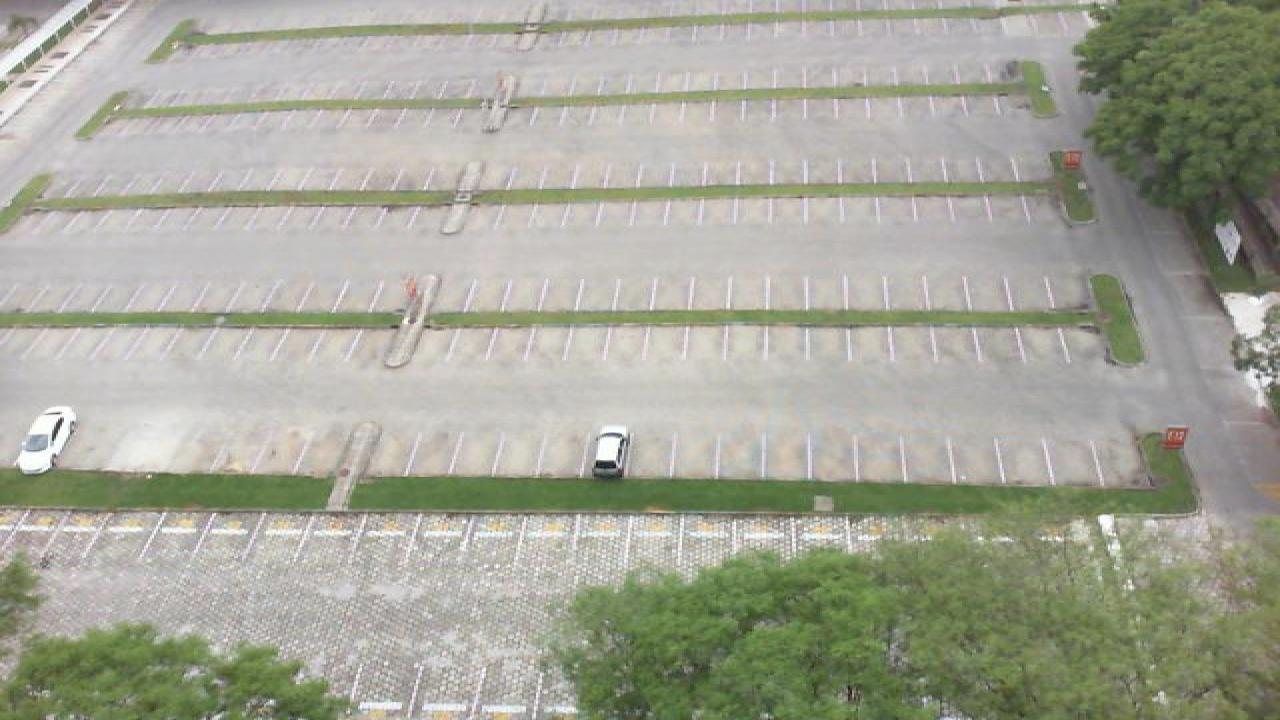Car: (14, 405, 78, 475), (588, 425, 632, 479)
